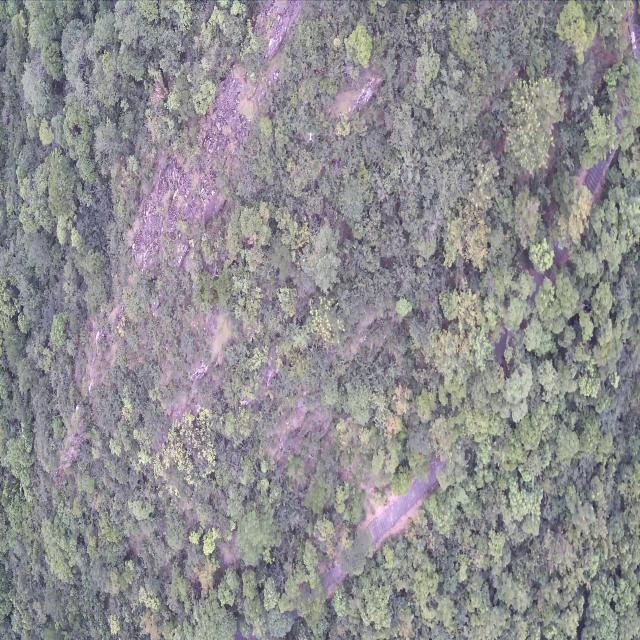UAV: (308, 131, 314, 142)
